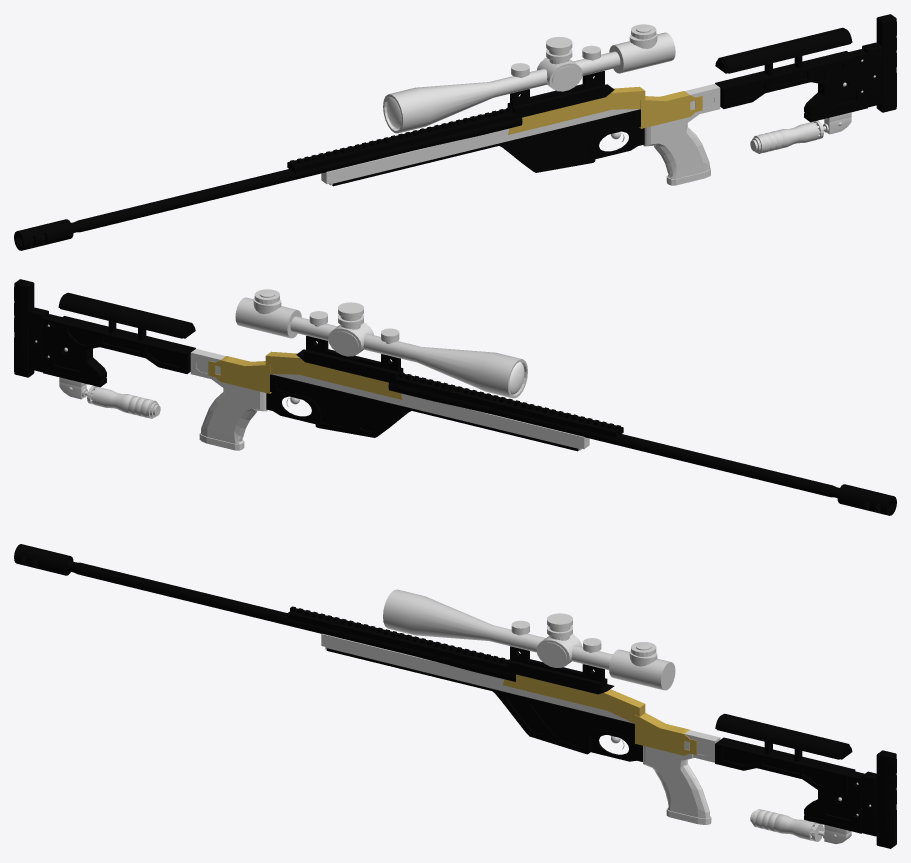
The model's file is sniper 1.fbx.
The picture shows the model from 3 angles, top to bottom: view 1: azimuth 30°, elevation 25°; view 2: azimuth 150°, elevation 25°; view 3: azimuth 330°, elevation 25°; orthographic projection.
Parts seen in each view (by area): view 1: Rifle; view 2: Rifle; view 3: Rifle.
Boxes of the visible parts, <box> form: Rifle: <box>14,14,896,250</box>; Rifle: <box>14,279,896,515</box>; Rifle: <box>14,544,896,848</box>.
Bounding box in the file's own units: 113 × 20.64 × 4.5.
